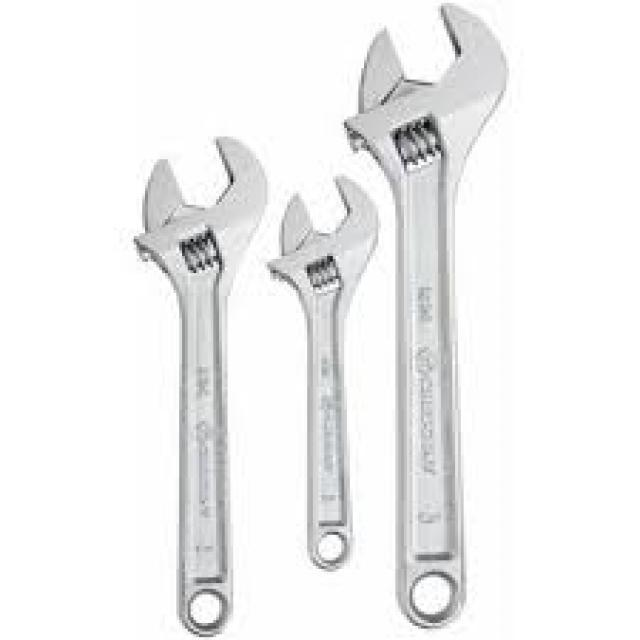wrench: (337, 0, 512, 633), (130, 130, 272, 640), (262, 172, 384, 574)
